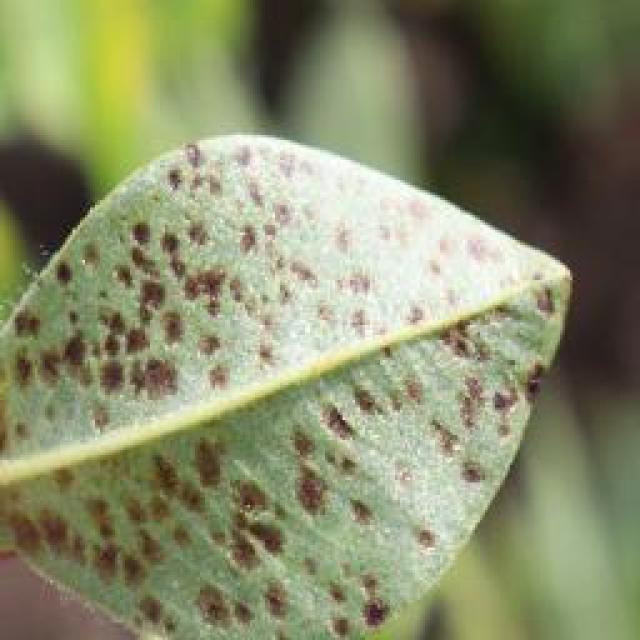Whitefly: (17, 112, 575, 640)
